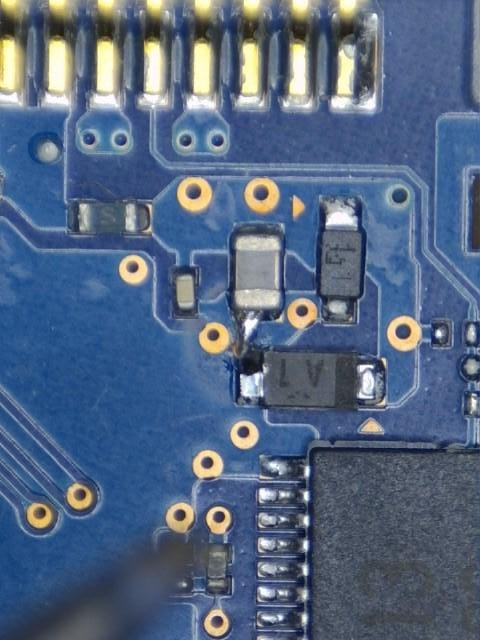pcb_defect: (231, 288, 284, 397)
